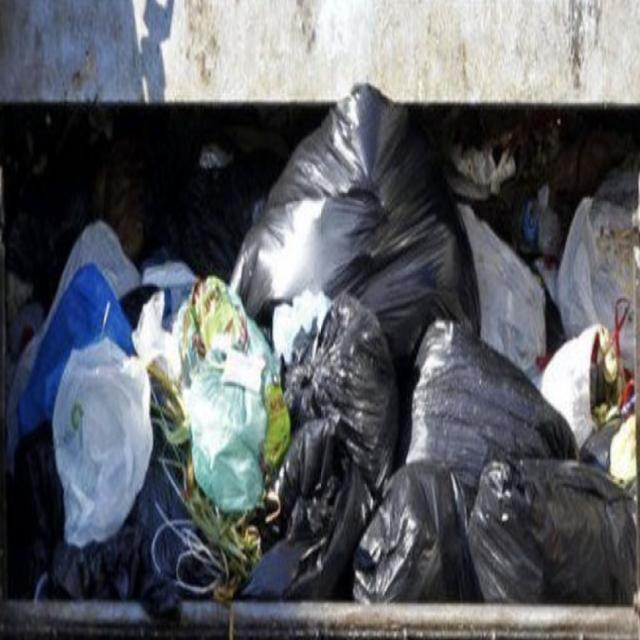bag: (222, 88, 492, 624), (21, 183, 188, 600), (410, 291, 584, 506), (172, 250, 296, 534), (283, 281, 408, 521)
